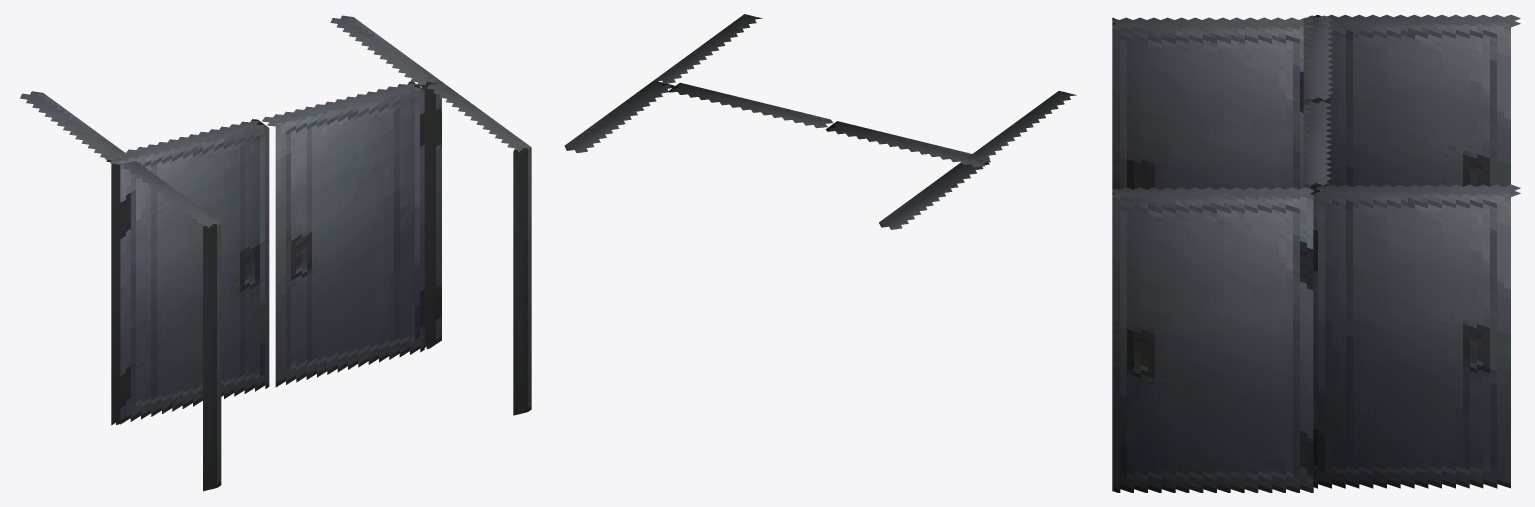
Rendered from SteelEntrance.glb.
The picture shows the model from 3 angles, left to right: view 1: azimuth 30°, elevation 25°; view 2: azimuth 150°, elevation 25°; view 3: azimuth 270°, elevation 25°; orthographic projection. The views are drawn at different scales.
Visible parts, largest first — view 1: right_1 (×2), left_1 (×2), right, left; view 2: right_1 (×2), left_1 (×2), right, left; view 3: right_1 (×2), right, left_1 (×2), left.
Boxes of the visible parts, x1,y1,x2,y2 form: right_1 (×2): [262, 15, 441, 387]; left_1 (×2): [20, 91, 269, 425]; right: [427, 82, 531, 415]; left: [116, 160, 221, 491]; right_1 (×2): [564, 81, 832, 153]; left_1 (×2): [826, 121, 990, 229]; right: [653, 14, 762, 83]; left: [968, 91, 1076, 160]; right_1 (×2): [1303, 101, 1520, 488]; right: [1112, 187, 1314, 492]; left_1 (×2): [1303, 14, 1520, 186]; left: [1112, 17, 1314, 189].
Size of the model in its own units: 2.16 by 1.62 by 2.03.
Materials: 1 (1 with a texture image).
